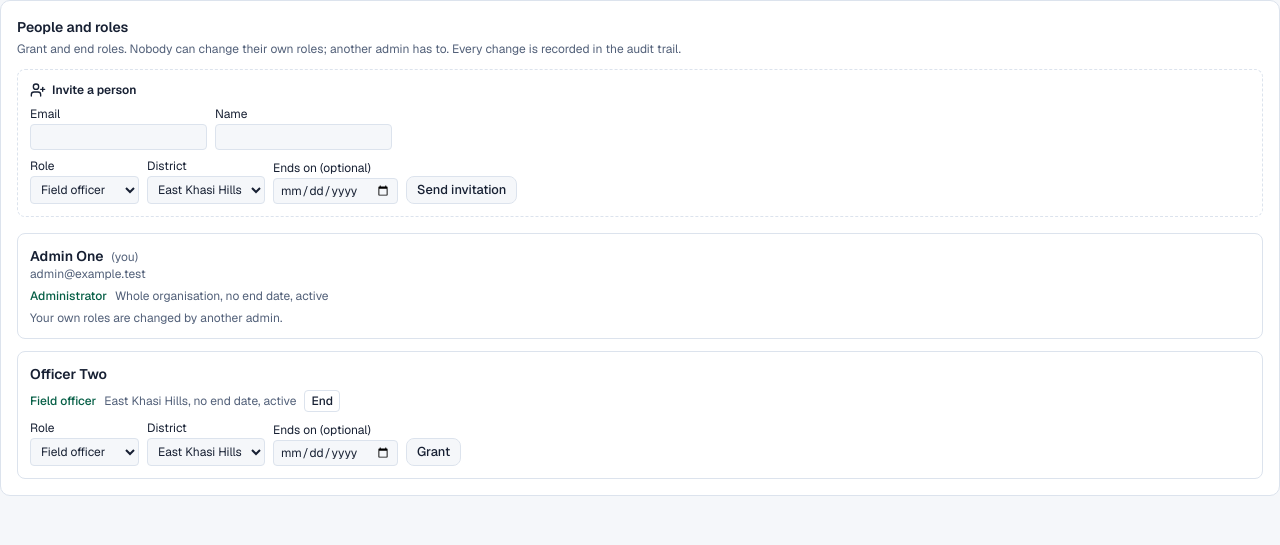
Test case: people and roles in settings › invites a person with their first role, or says it cannot
Type " new@example.test " into the field labelled "Email" at (118, 137), box [30,124,207,150]
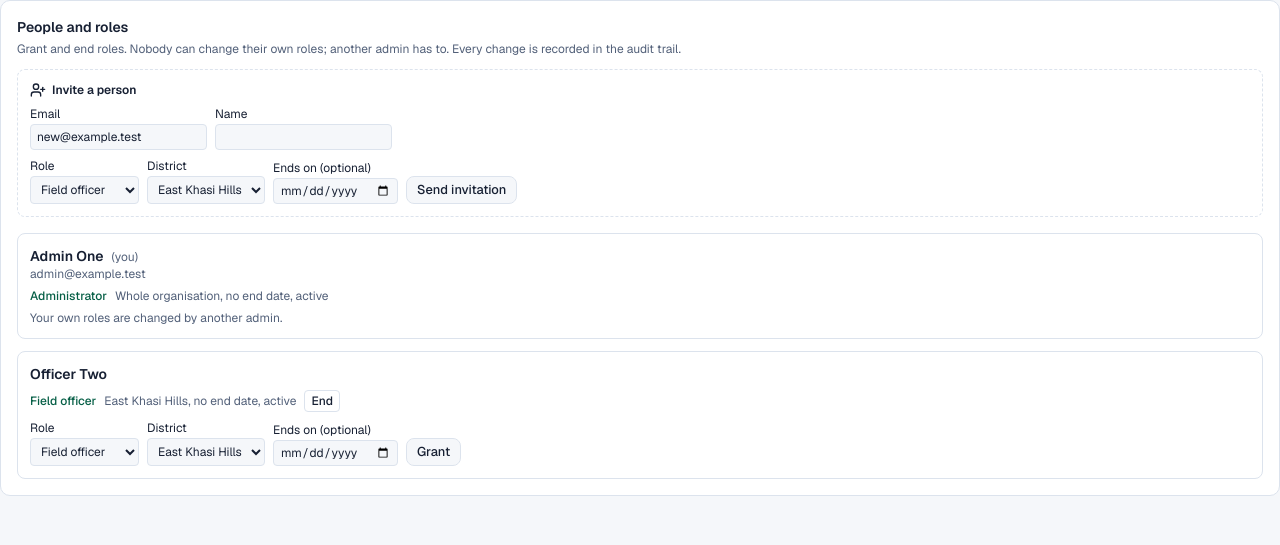
Type "New Officer" into the field labelled "Name" at (304, 137), box [215,124,392,150]
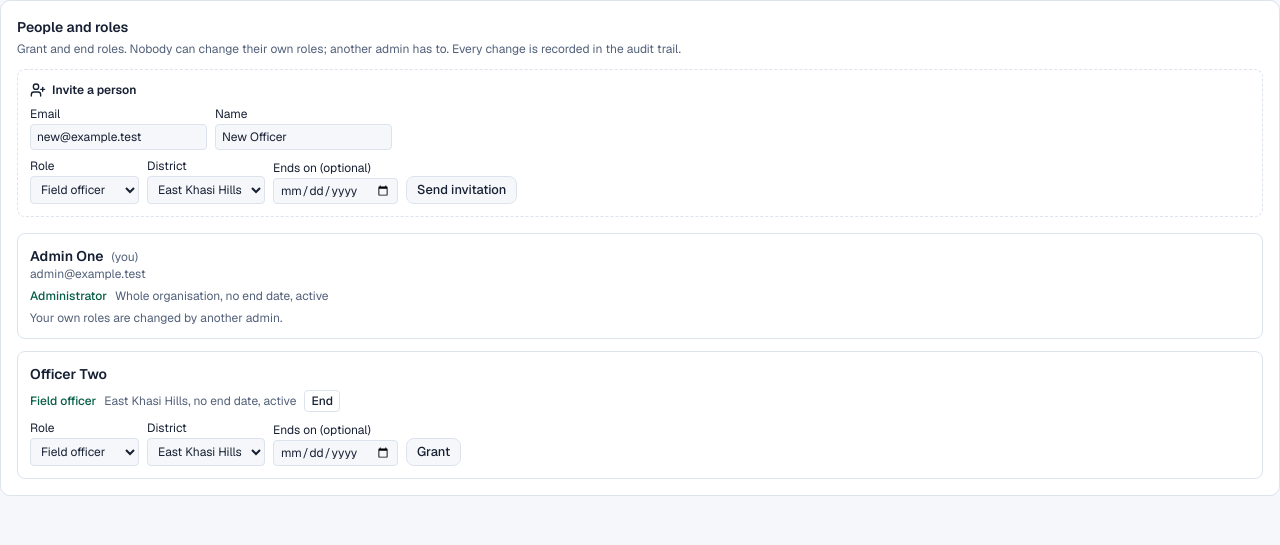
Click the button "Send invitation" at (462, 190), box [406,176,517,204]
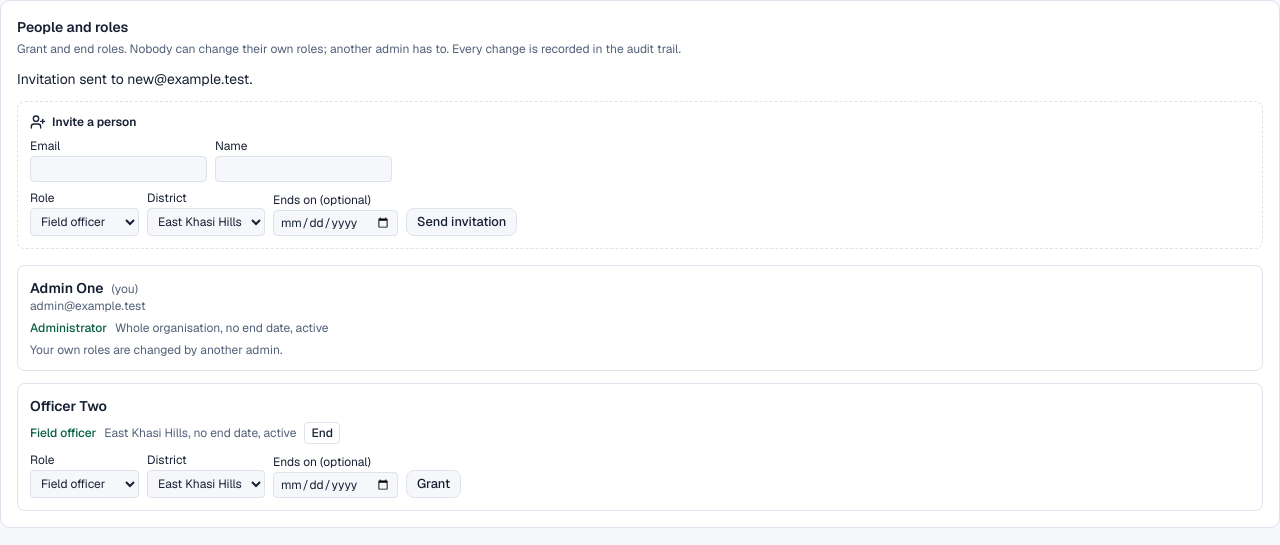
Check: the text "Invitation sent to new@example.test." is shown, box [17,70,252,88]
